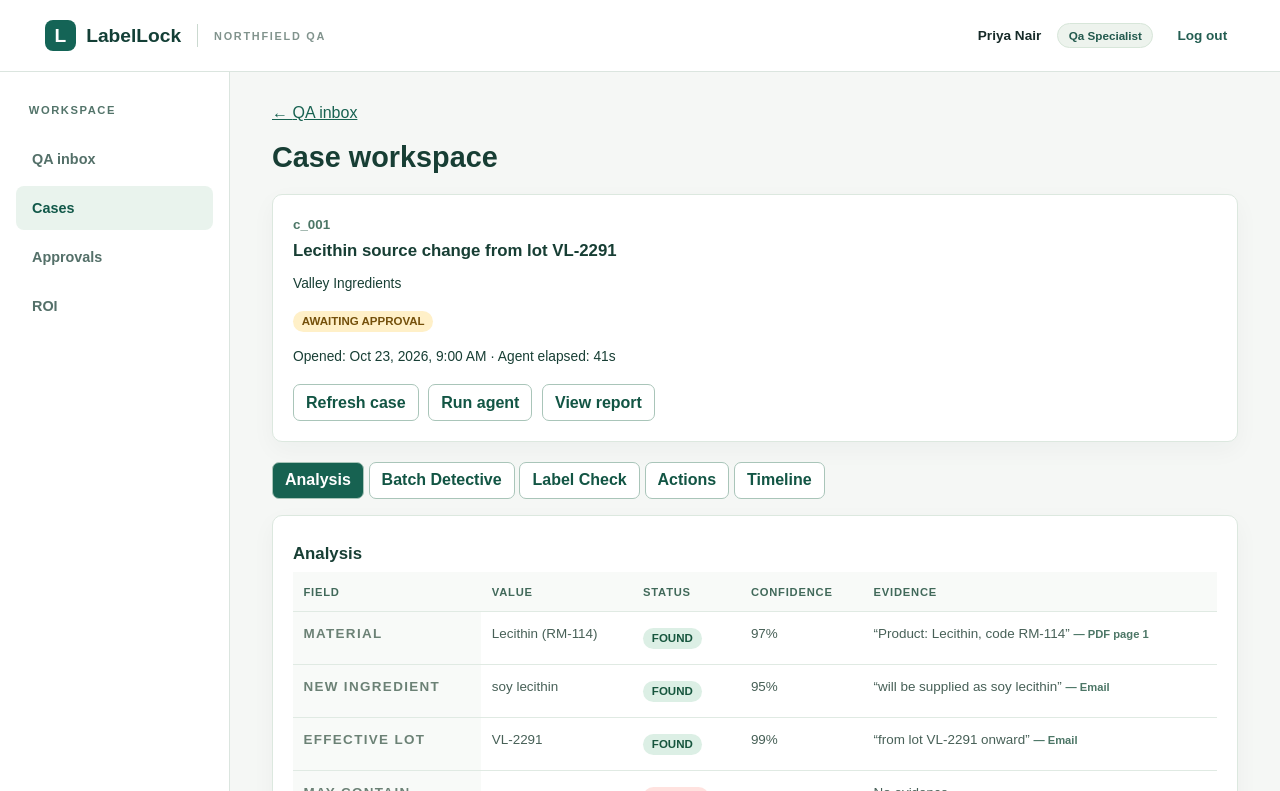
Test: case workspace › shows the contract detail in all five tabs, evidence and failure
Check: the heading "Lecithin source change from lot VL-2291" is shown, box [293,241,617,260]
Click the tab "Batch Detective" at (442, 480), box [369,462,515,499]
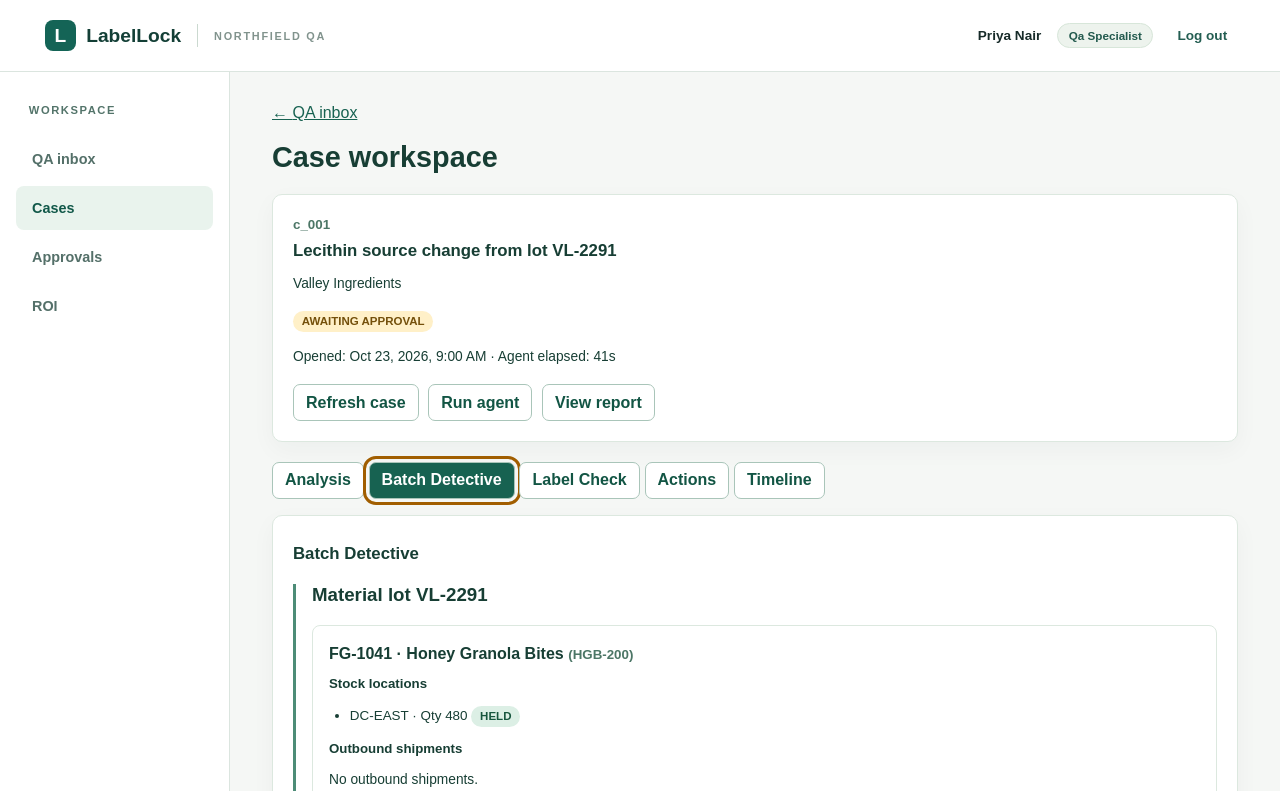
Check: the heading "Material lot VL-2291" is shown, box [312,584,488,605]
Check: the text "HELD" is shown, box [471,706,520,726]
Click the tab "Label Check" at (580, 480), box [520,462,640,499]
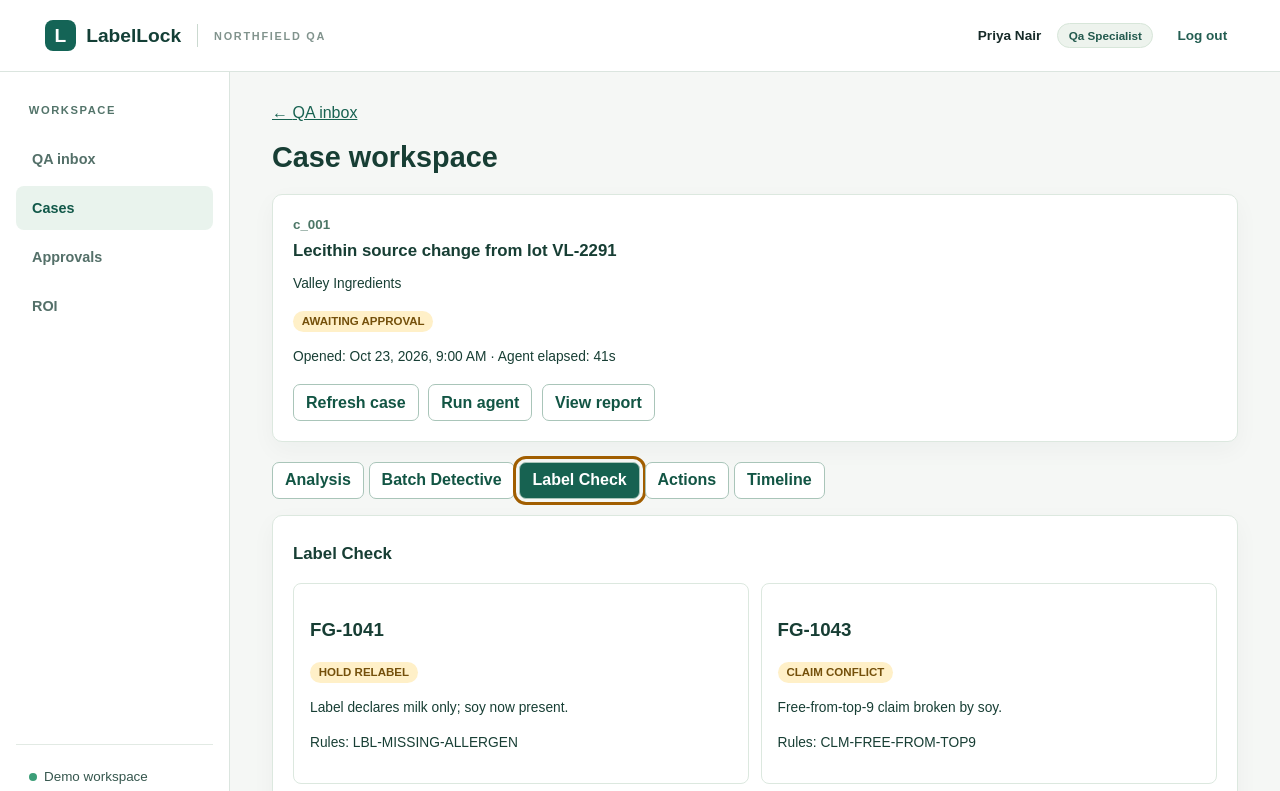
Check: the text "Rules: LBL-MISSING-ALLERGEN" is shown, box [310,735,518,750]
Click the tab "Actions" at (687, 480), box [644,462,729,499]
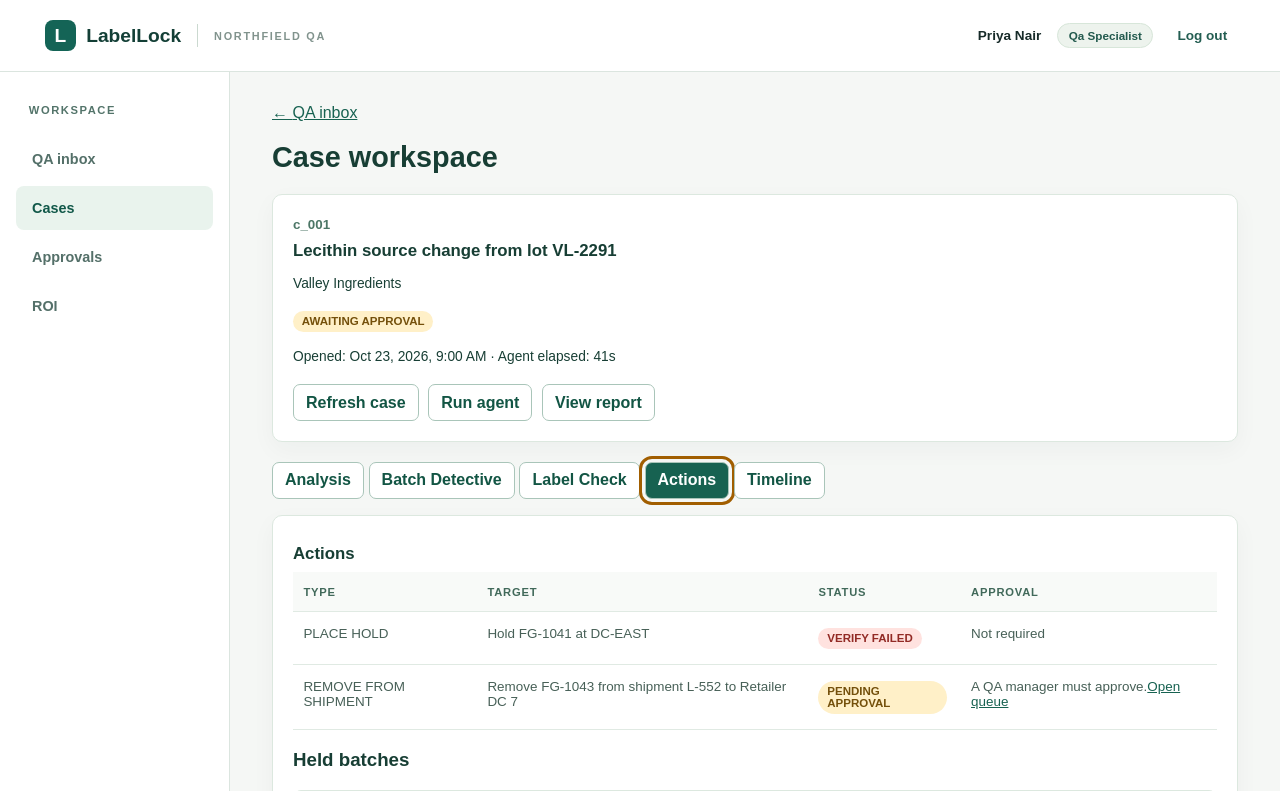
Check: the text "VERIFY FAILED" is shown, box [818,628,922,649]
Click the tab "Timeline" at (779, 480), box [734,462,825,499]
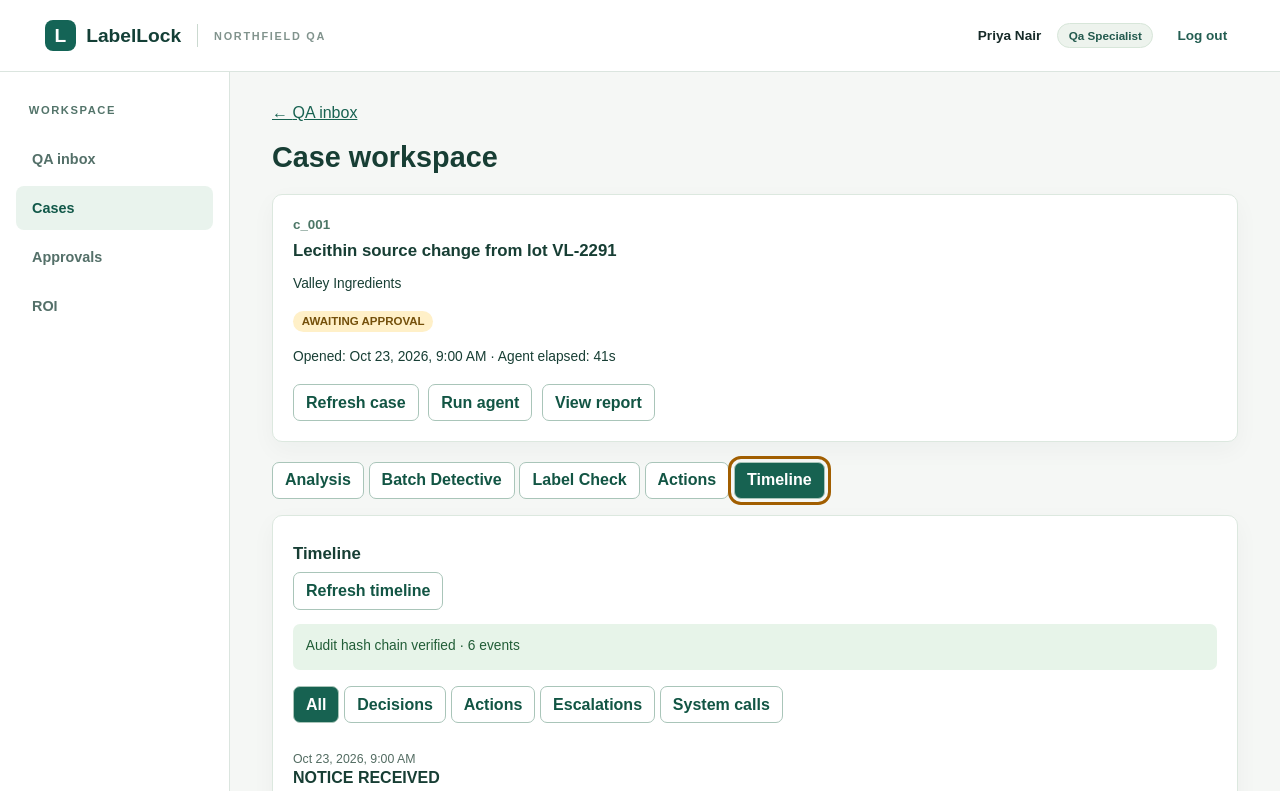
Check: the text "NOTICE RECEIVED" is shown, box [293,769,440,786]
Check: the text "Audit hash chain verified · 6 events" is shown, box [293,624,1217,670]
Click the button "View report" at (598, 403), box [542,384,655,421]
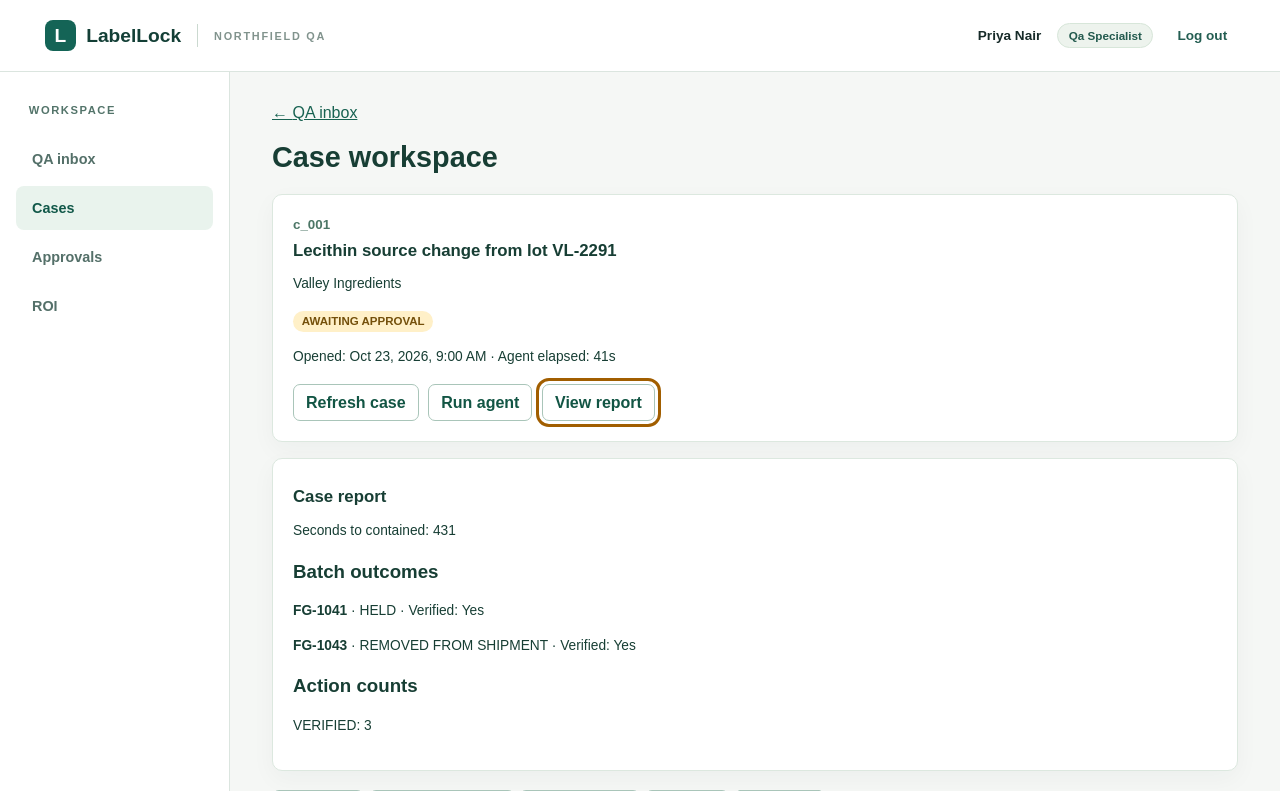
Check: the element "Case report" shows "431", box [433,523,456,538]
